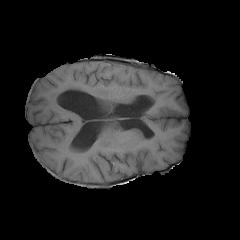glioma: (50, 79, 150, 108)
